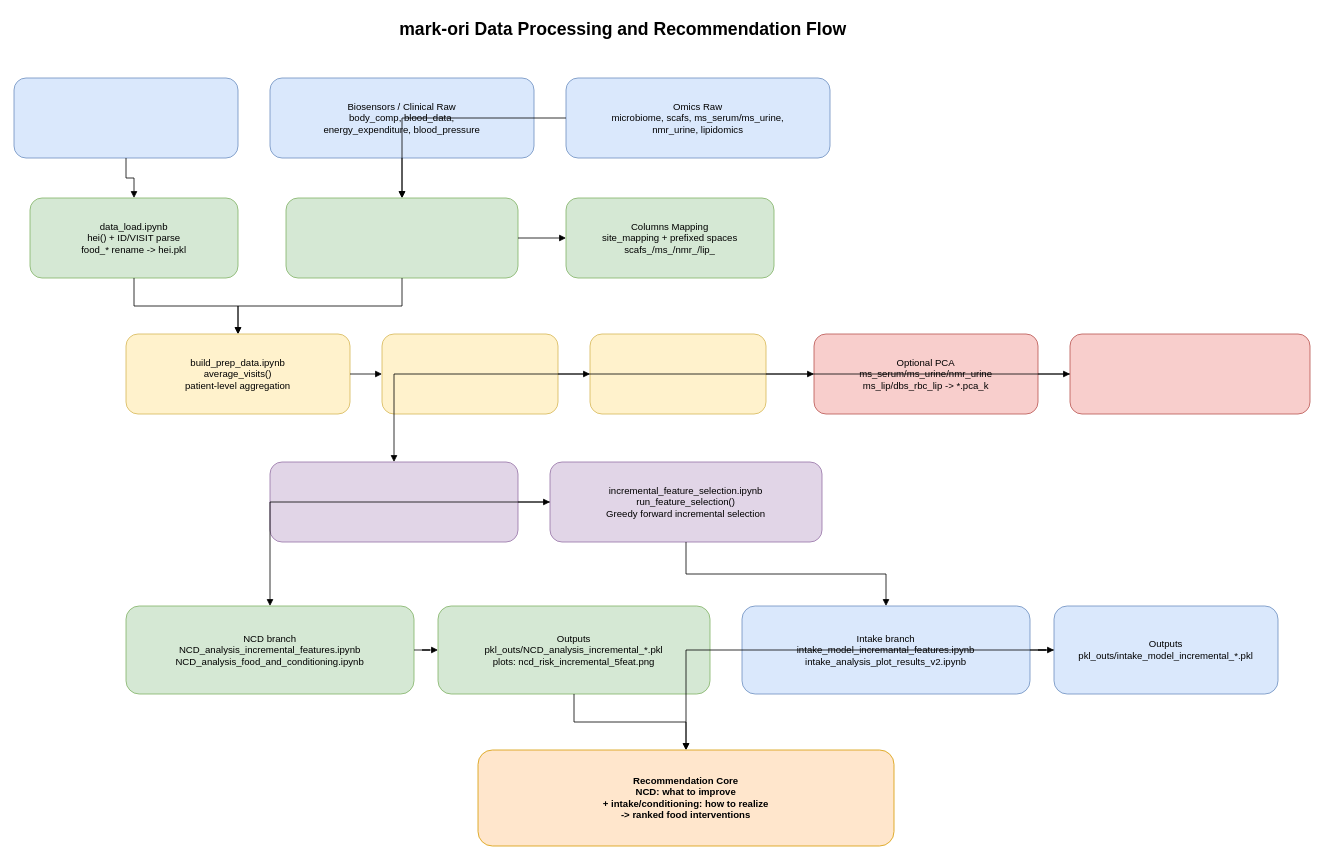
The diagram is 1340 pixels wide and 860 high, and some of its shapes have lost their labels. Each missing label, with the centre of its shape:
"compute_tools.ipynb compute_predictor_errors() Var Reduction = 1 - test_error" goes at point 393,501.
"data_load.ipynb cleaned_loader() ID/VISIT unify high-missing cols drop" goes at point 401,237.
"Derived features site_continental normed_TEE normed_food_*" goes at point 677,373.
"Feature Space base_feats + food_feats + non_food_feats" goes at point 1189,373.
"Inner merge on ID -> prep_data" goes at point 469,373.
"Intake24 Raw processed_fped.csv processed_diet.csv" goes at point 125,117.
